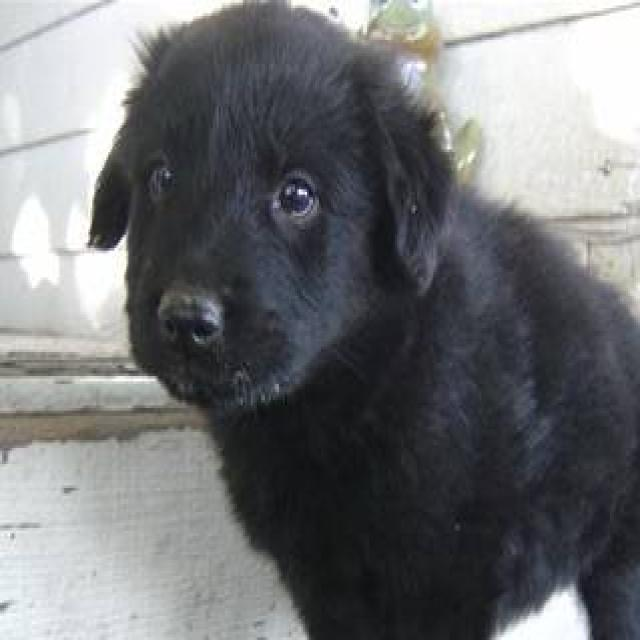dog: (86, 0, 637, 637)
